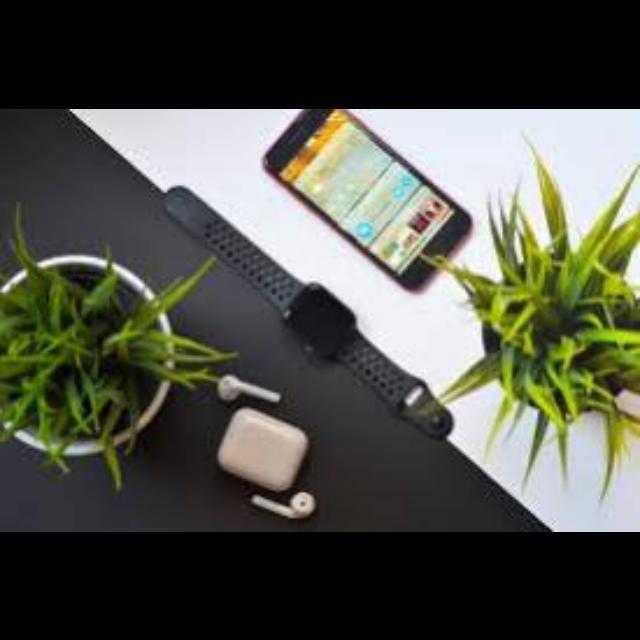PhoneUse: (257, 108, 487, 284)
